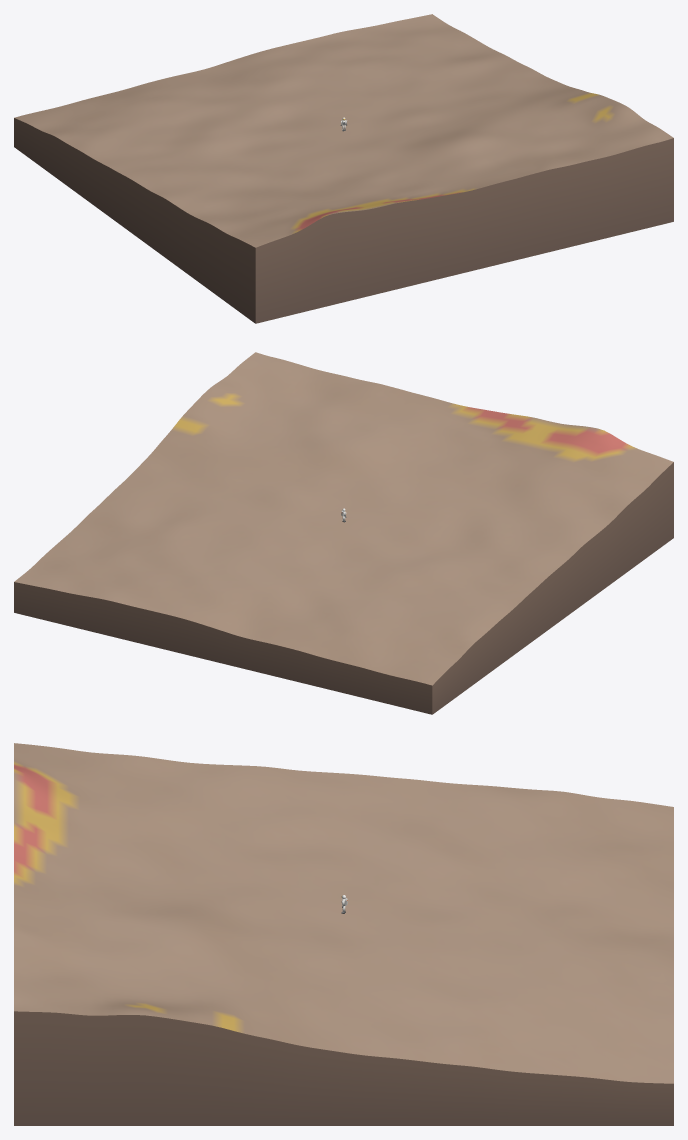
The model's file is wp5-polygons.glb.
3 views of the same model, one above another, from view 1: azimuth 30°, elevation 25°; view 2: azimuth 150°, elevation 25°; view 3: azimuth 270°, elevation 25° (orthographic). The views are drawn at different scales.
Visible parts, largest first — view 1: wp5-polygons; view 2: wp5-polygons; view 3: wp5-polygons.
Part boxes in pixels (bbox=[...]): wp5-polygons: bbox=[14, 14, 673, 323]; wp5-polygons: bbox=[14, 352, 673, 714]; wp5-polygons: bbox=[14, 743, 673, 1125].
Bounding box in the file's own units: 59.94 × 12.45 × 59.94.
